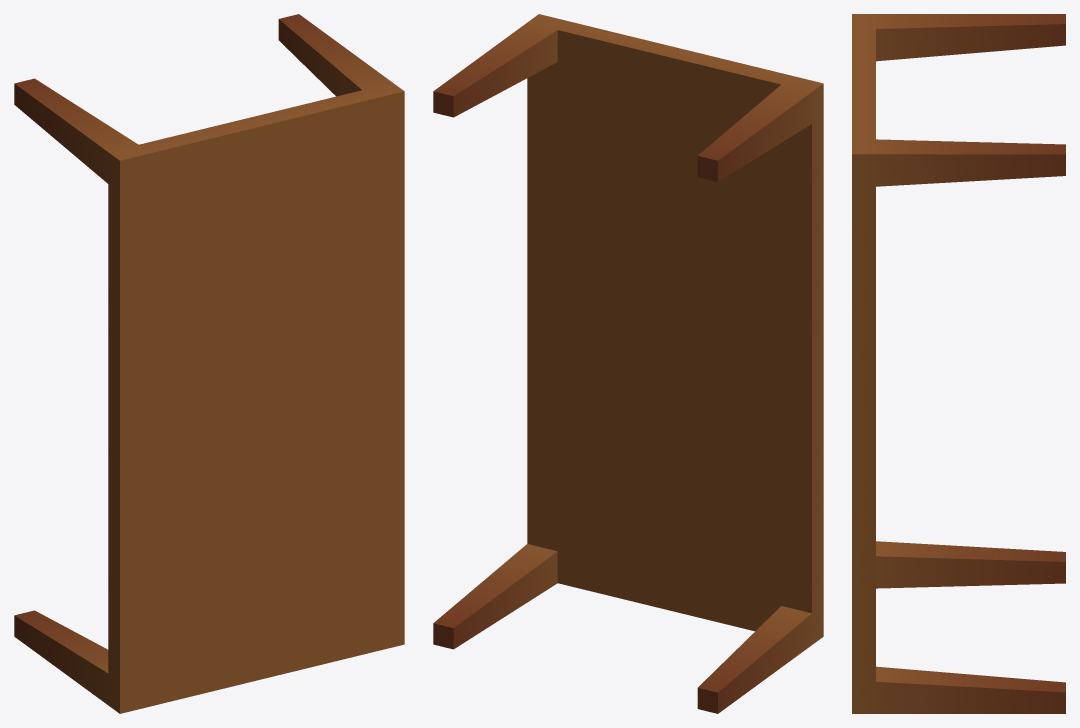
File: DiningTable.fbx
The picture shows the model from 3 angles, left to right: view 1: azimuth 30°, elevation 25°; view 2: azimuth 150°, elevation 25°; view 3: azimuth 270°, elevation 25°; orthographic projection.
Visible parts, largest first — view 1: Cube.005; view 2: Cube.005; view 3: Cube.005.
Boxes of the visible parts, <box> form: Cube.005: <box>14,14,404,713</box>; Cube.005: <box>433,14,823,713</box>; Cube.005: <box>852,14,1065,713</box>.
Bounding box in the file's own units: 140 × 260 × 90.
